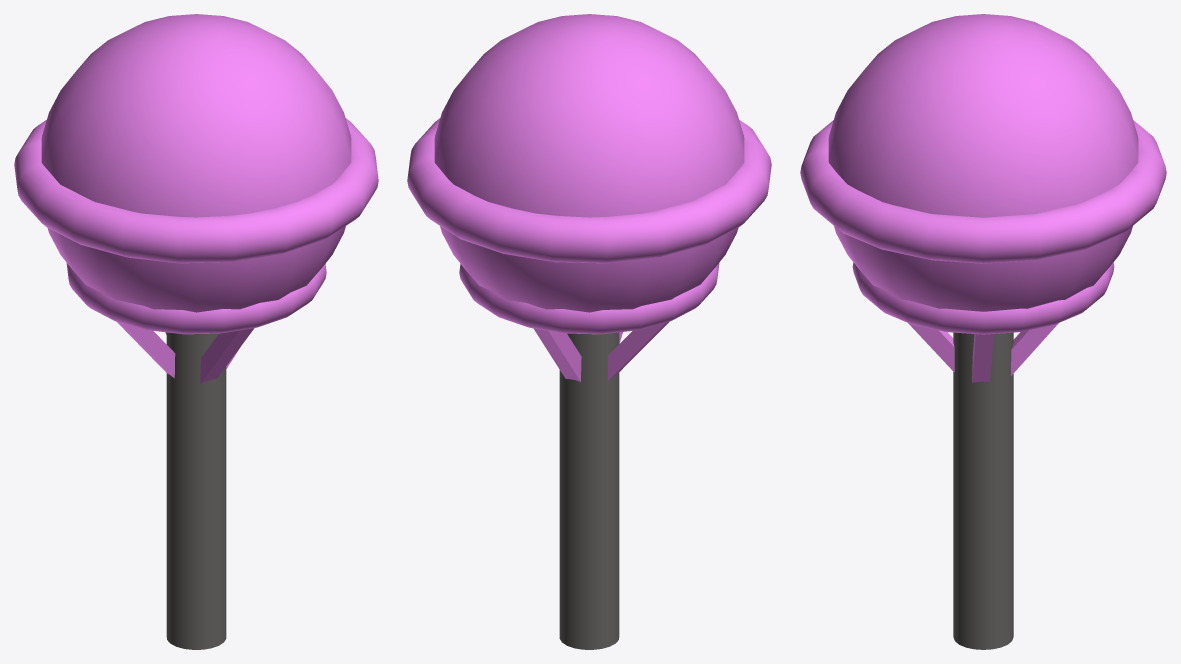
The model's file is pink.fbx.
3 views of the same model, side by side, from view 1: azimuth 30°, elevation 25°; view 2: azimuth 150°, elevation 25°; view 3: azimuth 270°, elevation 25° (orthographic).
Parts seen in each view (by area): view 1: Pink; view 2: Pink; view 3: Pink.
Part boxes in pixels (left/top/right/bottom): Pink: left=14, top=14, right=378, bottom=649; Pink: left=407, top=14, right=771, bottom=649; Pink: left=800, top=14, right=1166, bottom=649.
Size of the model in its own units: 12.42 by 22.78 by 12.42.
